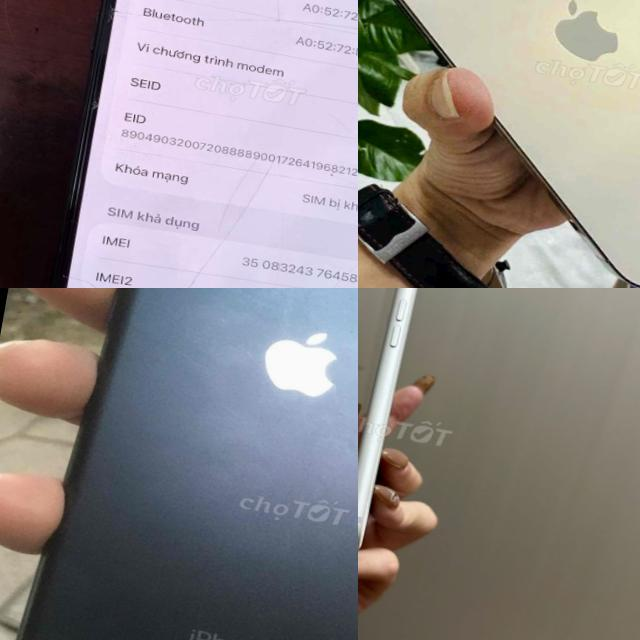gen_14: (358, 0, 640, 288)
gen_15: (37, 0, 358, 288)
gen_7_8: (0, 288, 358, 640), (358, 288, 432, 565)
physical_damage: (214, 152, 258, 222), (319, 110, 358, 157), (164, 255, 213, 288), (202, 219, 235, 260), (236, 10, 280, 28), (196, 9, 233, 27), (252, 156, 270, 191), (100, 3, 129, 24), (64, 268, 94, 288), (330, 258, 349, 288), (130, 8, 164, 24), (165, 12, 192, 30), (286, 15, 318, 30), (322, 21, 354, 33), (271, 0, 287, 13), (353, 158, 358, 188), (313, 281, 334, 288)
